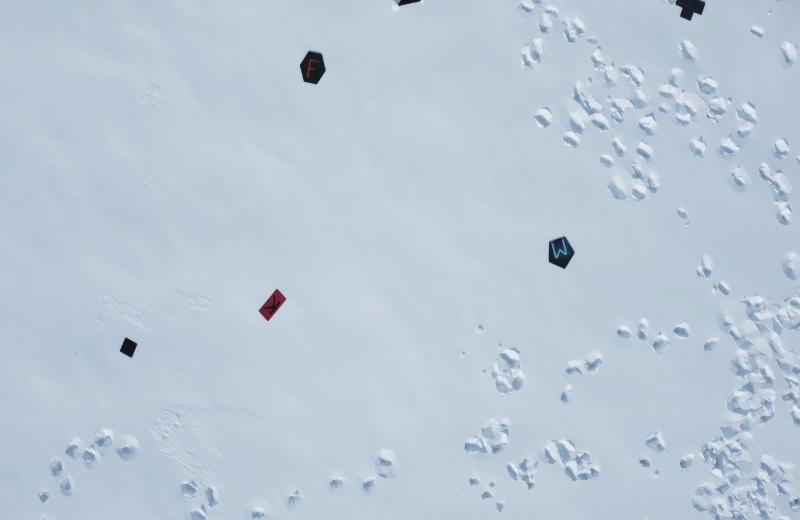Cross: (672, 0, 712, 25)
Hexagon: (299, 47, 328, 89)
Pentagon: (543, 229, 577, 273)
Rectangle: (256, 283, 289, 326)
Square: (116, 335, 142, 363)
